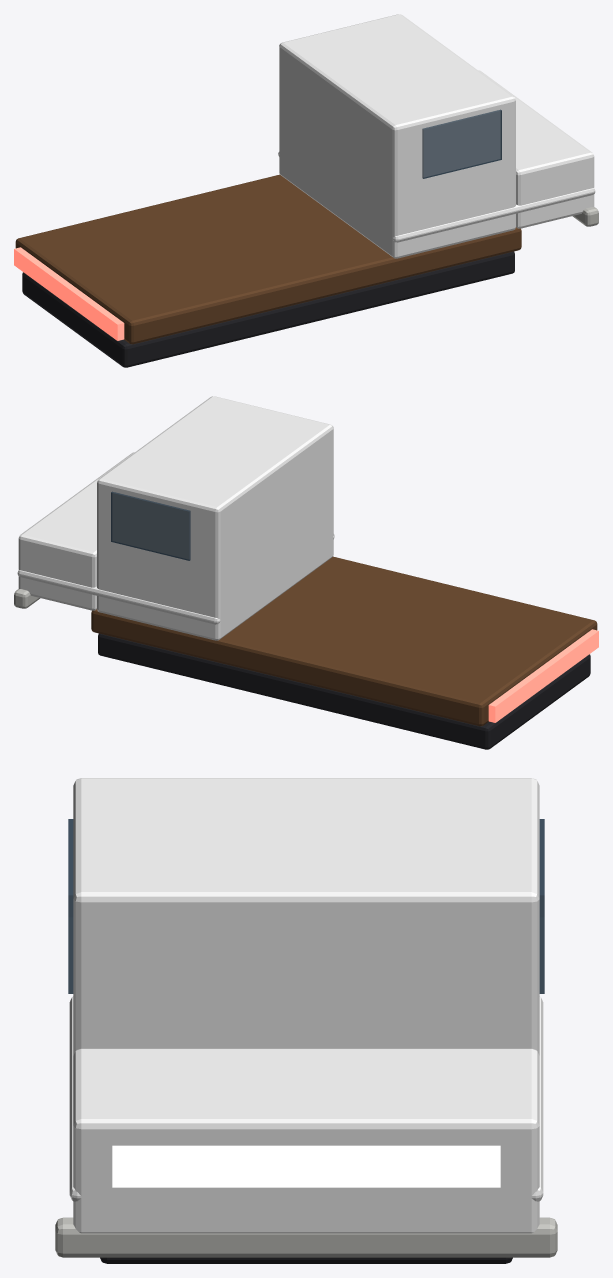
Rendered from truck_pickup.glb.
3 views of the same model, one above another, from view 1: azimuth 30°, elevation 25°; view 2: azimuth 150°, elevation 25°; view 3: azimuth 270°, elevation 25° (orthographic). The views are drawn at different scales.
Visible parts, largest first — view 1: cab, bed, chassis, bonnet, windows, tail, stripe; view 2: cab, bed, chassis, bonnet, windows, tail, stripe; view 3: cab, bonnet, lamps, bumper, stripe, chassis, windows.
Boxes of the visible parts, left/top/right/bottom form: cab: left=279, top=14, right=515, bottom=258; bed: left=15, top=174, right=521, bottom=344; chassis: left=22, top=251, right=514, bottom=367; bonnet: left=478, top=70, right=594, bottom=228; windows: left=422, top=109, right=501, bottom=178; tail: left=14, top=247, right=124, bottom=340; stripe: left=278, top=152, right=595, bottom=242; cab: left=97, top=396, right=333, bottom=640; bed: left=91, top=556, right=597, bottom=726; chassis: left=98, top=633, right=590, bottom=749; bonnet: left=18, top=452, right=134, bottom=610; windows: left=111, top=491, right=190, bottom=560; tail: left=488, top=629, right=598, bottom=722; stripe: left=17, top=534, right=334, bottom=624; cab: left=73, top=778, right=539, bottom=1055; bonnet: left=73, top=1048, right=539, bottom=1233; lamps: left=112, top=1145, right=500, bottom=1187; bumper: left=55, top=1217, right=557, bottom=1257; stripe: left=69, top=996, right=543, bottom=1201; chassis: left=100, top=1257, right=512, bottom=1263; windows: left=68, top=819, right=544, bottom=993.
Size of the model in its own units: 4.25 by 1.56 by 1.94.
